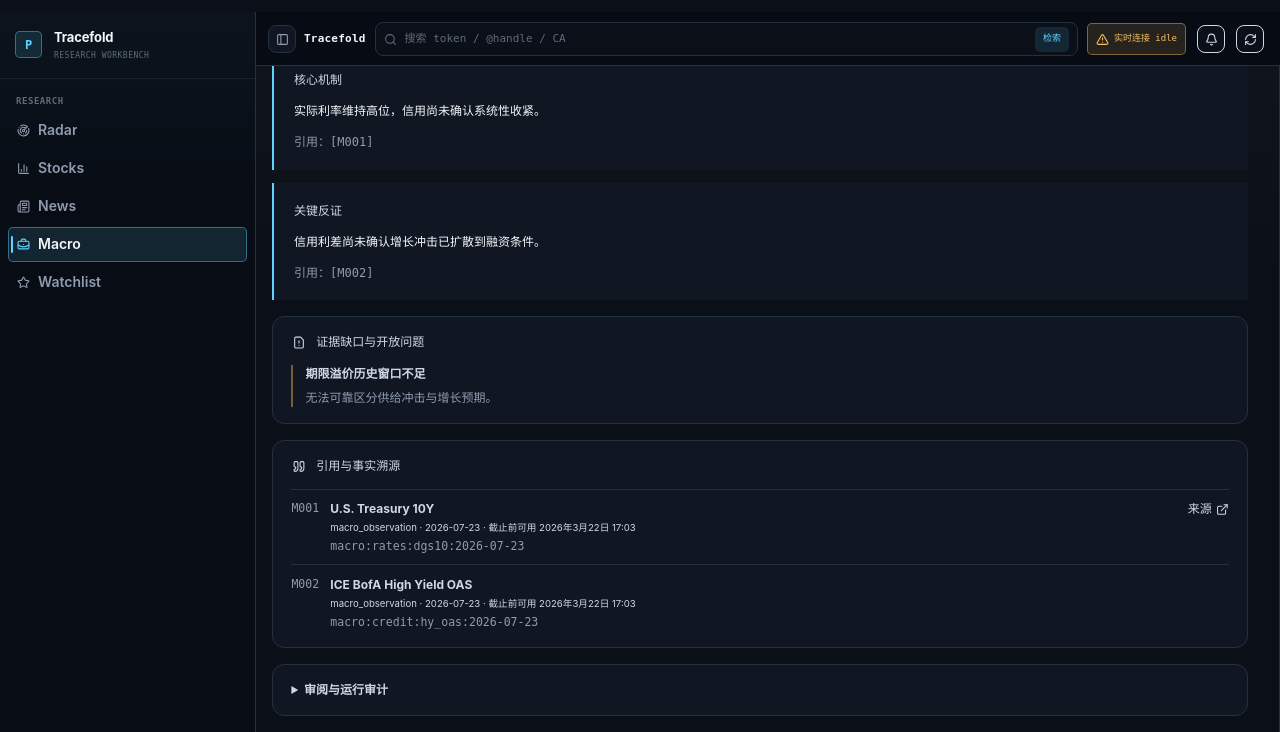
it: macro live evidence and research workbench › keeps audit metadata collapsed until requested
This screenshot has width=1280, height=732.
(page scrolled)
Expected: the heading "核心机制" is shown, [294,72,342,87]
Click the heading "审阅与运行审计" at [346, 690], box [304,682,388,697]
(page scrolled)
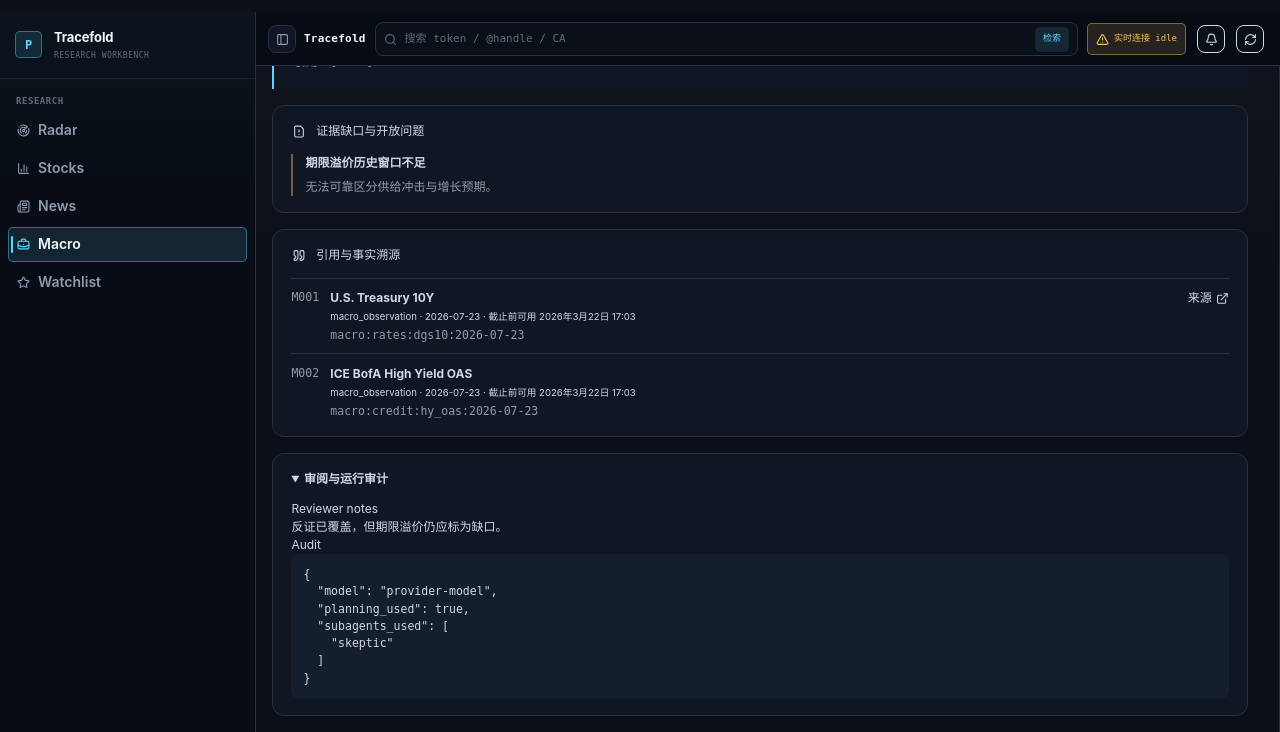
Result: the list item "反证已覆盖，但期限溢价仍应标为缺口。" is shown at [291,519,507,534]
Result: the text "planning_used" is shown at [303,567,498,685]
